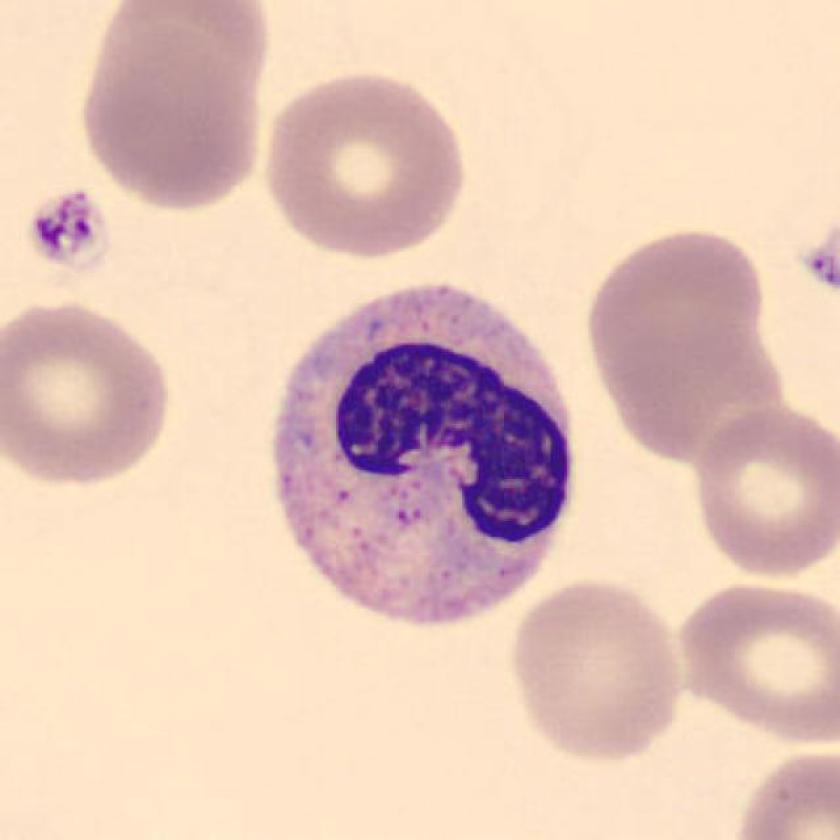neutrophil: (274, 286, 572, 619)
